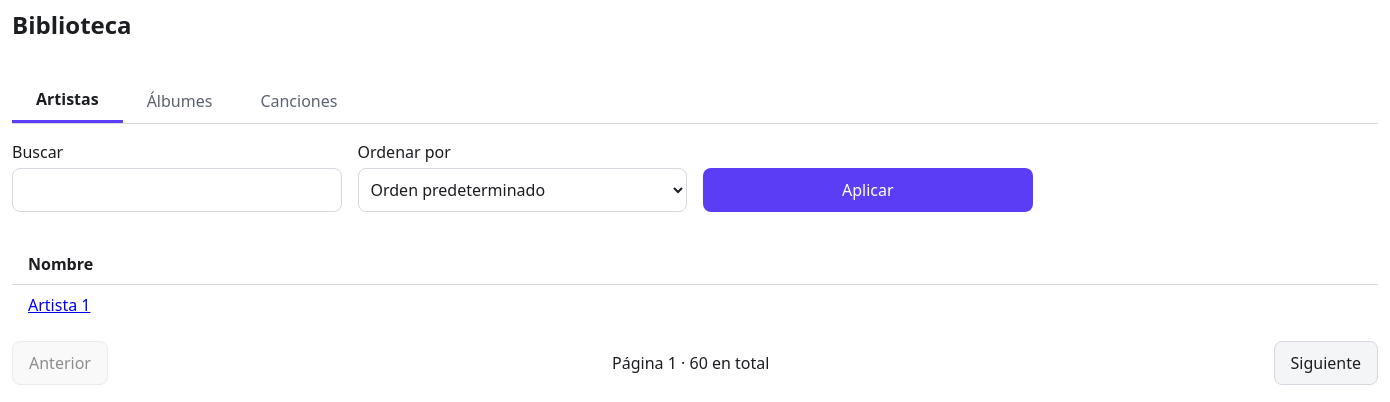
Test: LibraryView › pasa de página adelante y atrás
expect the button "Anterior" is disabled: met, box x1=12 y1=341 x2=108 y2=385
Click the button "Siguiente": point(1326, 363) x1=1274 y1=341 x2=1378 y2=385
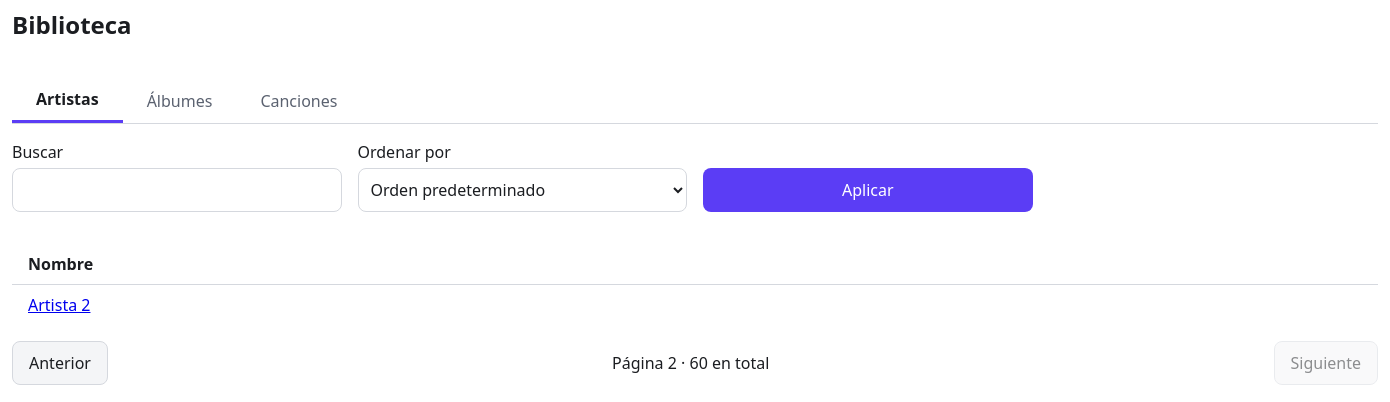
expect the text "Artista 2" is shown: met, box x1=28 y1=294 x2=90 y2=316
expect the button "Siguiente" is disabled: met, box x1=1274 y1=341 x2=1378 y2=385
Click the button "Anterior": point(60, 363) x1=12 y1=341 x2=108 y2=385
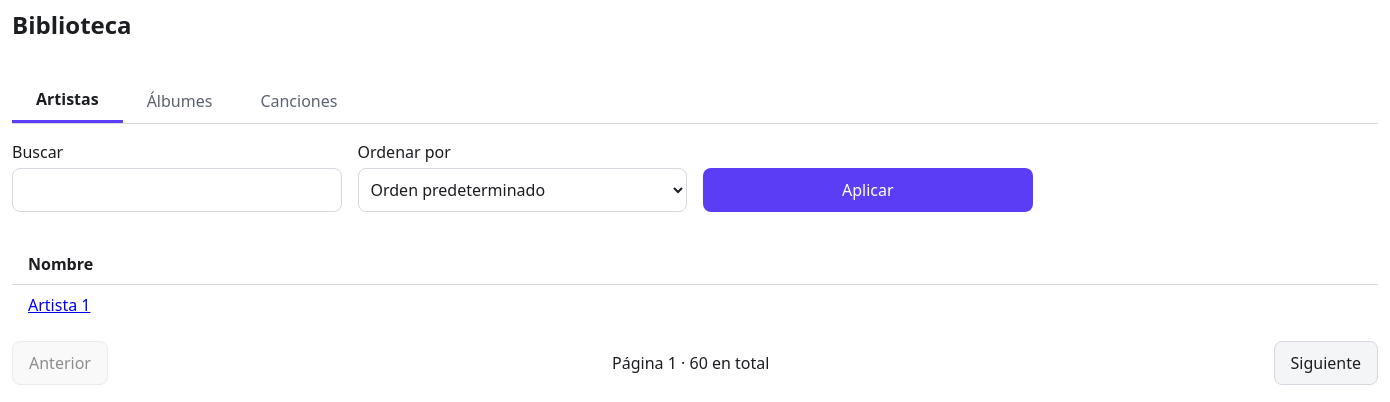
expect the text "Artista 1" is shown: met, box x1=28 y1=294 x2=90 y2=316
